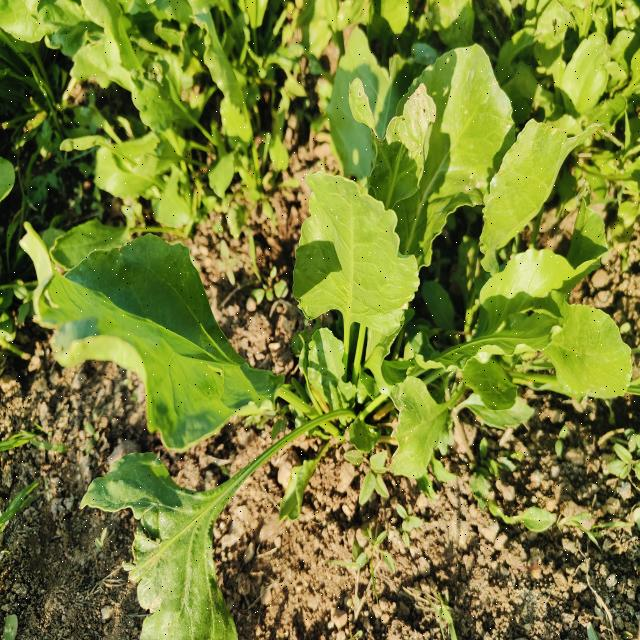half-leaf: (374, 377, 466, 499)
leaves: (77, 403, 342, 640), (32, 236, 298, 456), (392, 26, 526, 306), (286, 172, 426, 427), (414, 246, 608, 387), (467, 113, 614, 286), (472, 303, 638, 414), (320, 24, 389, 233), (351, 80, 446, 230)
